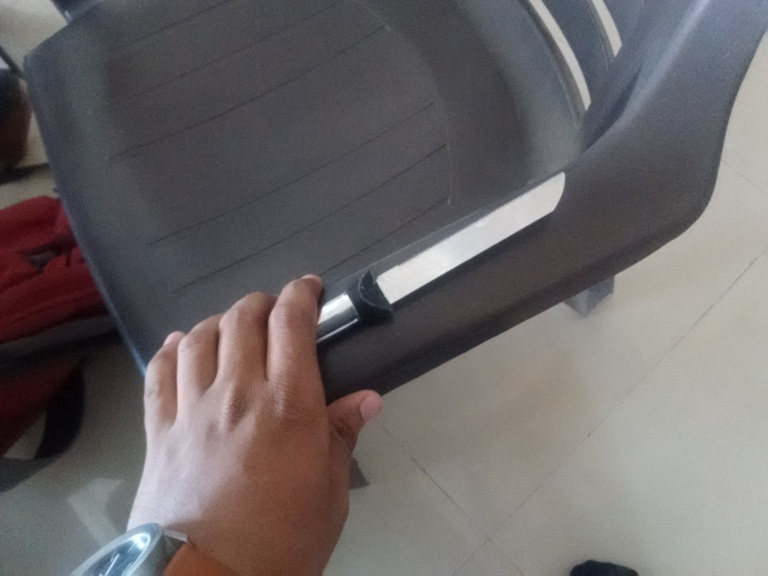knife: (316, 172, 566, 356)
